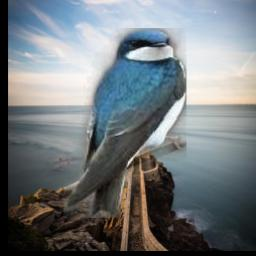Swallow: (63, 29, 186, 219)
